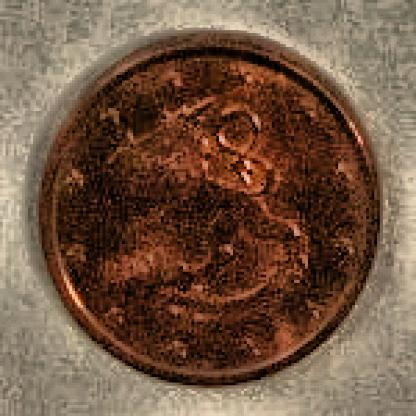coin: (34, 31, 382, 390)
